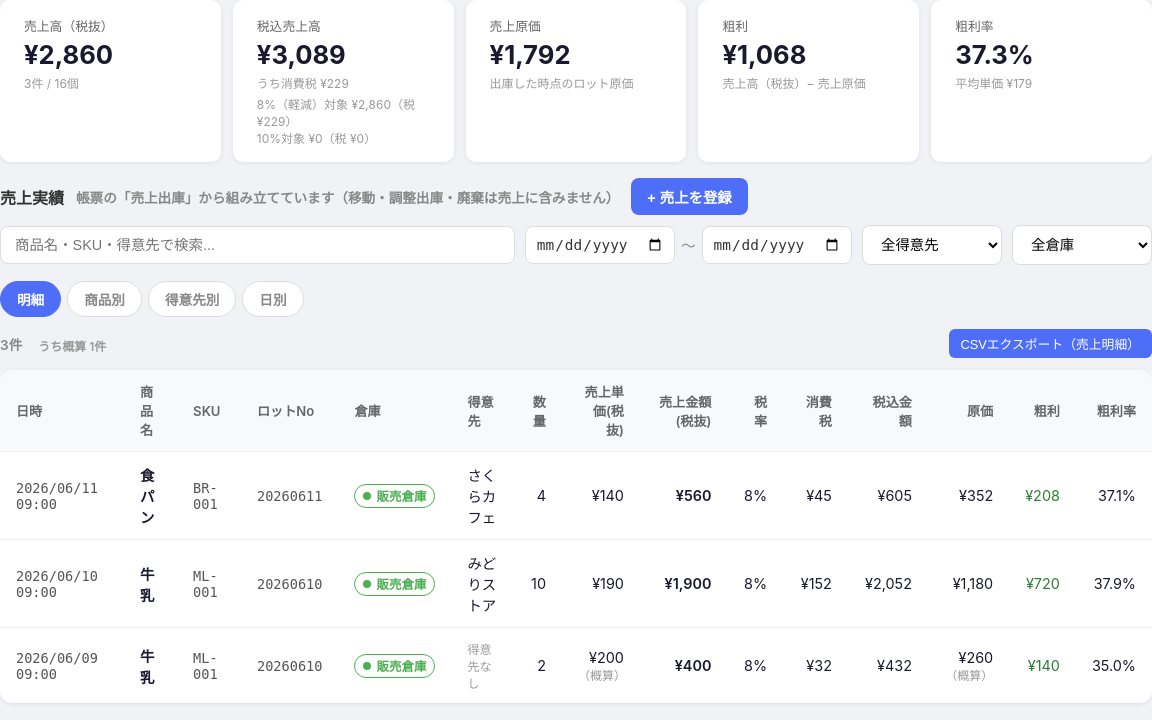
Test: SalesView — 売上登録 › 販売単価の初期値は選んだ商品の販売定価になる
Click the button "+ 売上を登録" at (690, 196), box [631, 178, 748, 215]
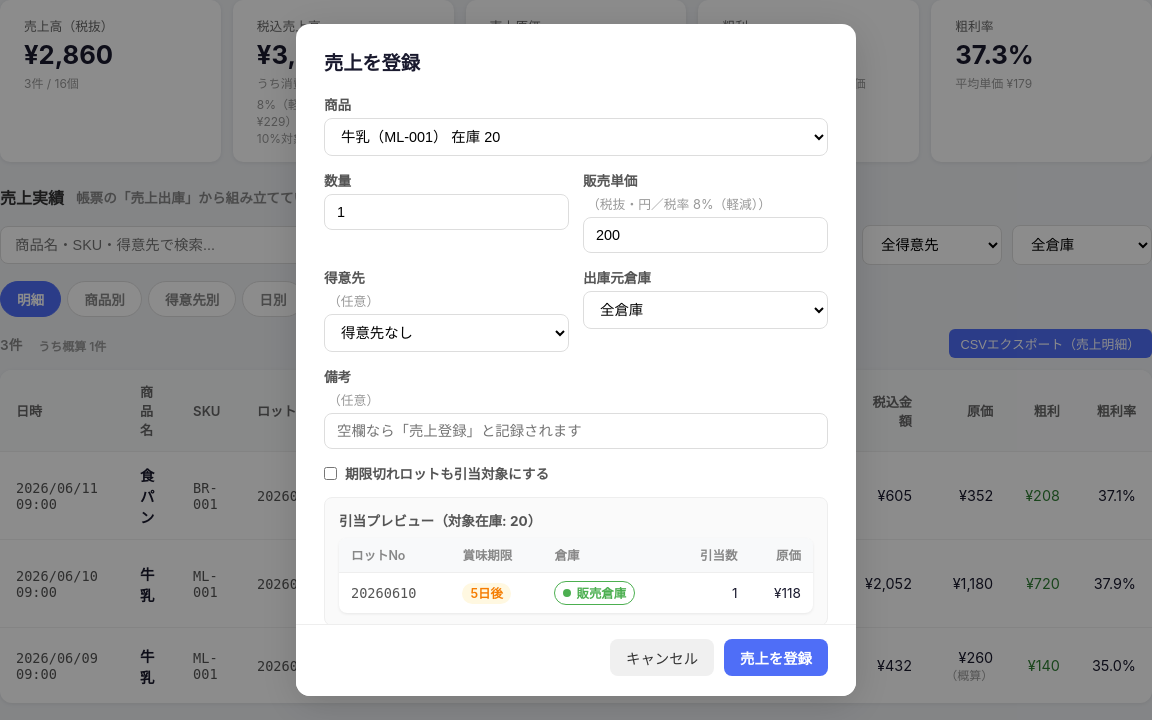
Now the number field labelled "販売単価 （税抜・円／税率 8%（軽減））" holds "200", box [583, 217, 828, 253]
Select "食パン（BR-001） 在庫 10" in the dropdown labelled "商品" at (576, 137), box [324, 118, 828, 156]
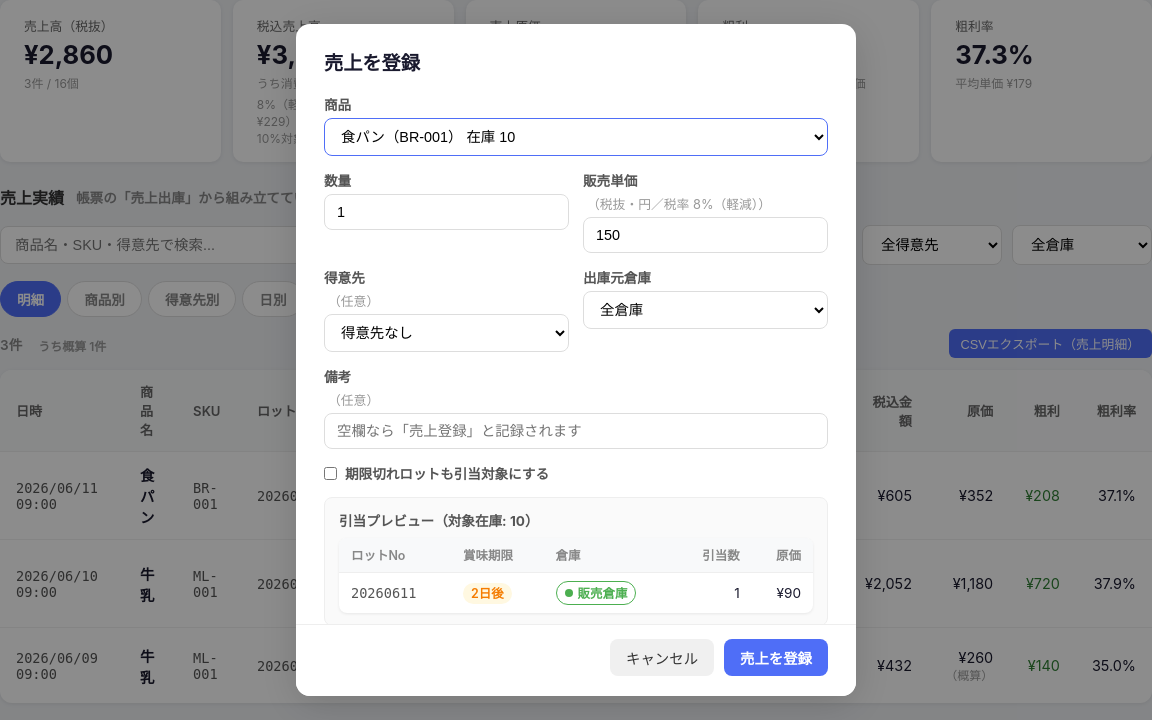
Now the number field labelled "販売単価 （税抜・円／税率 8%（軽減））" holds "150", box [583, 217, 828, 253]
